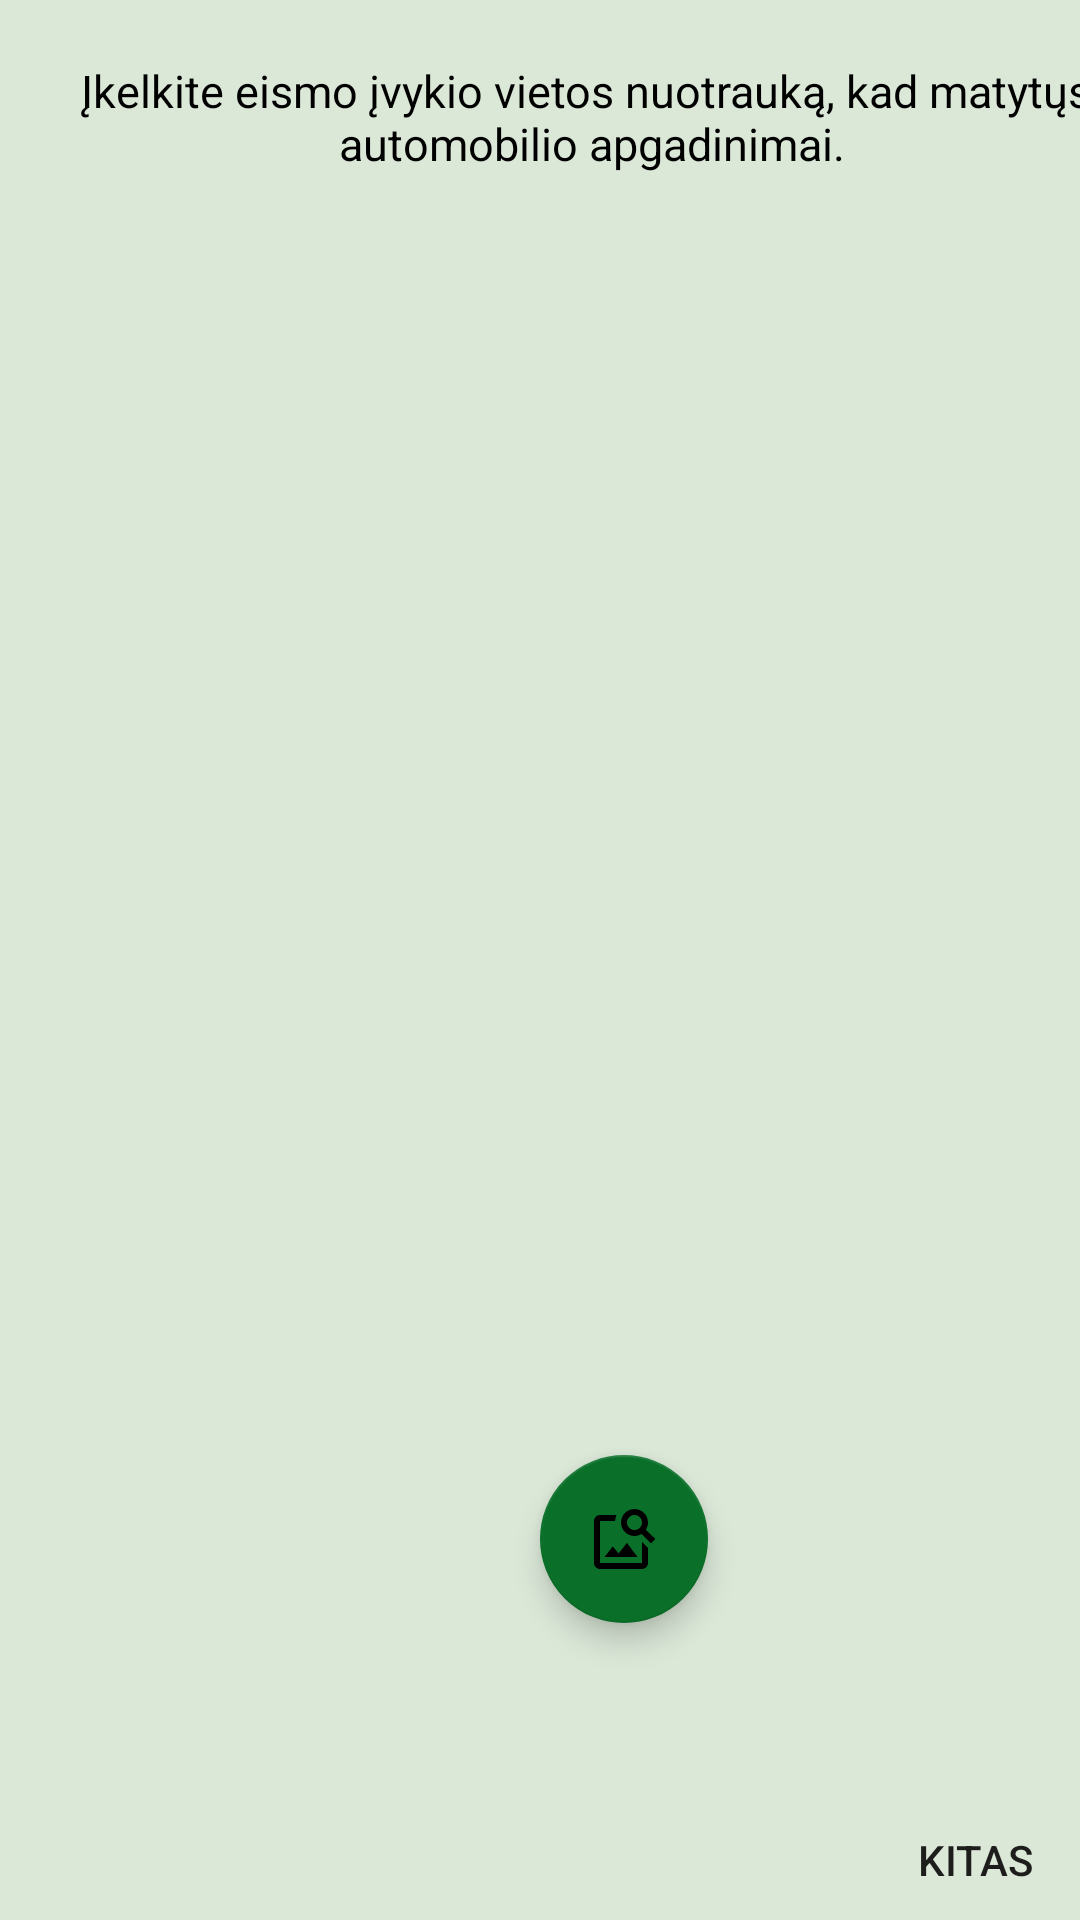

Where to tap for icons on this 1080px x 1920px app screen, as (x,y):
search: (624,1539)
